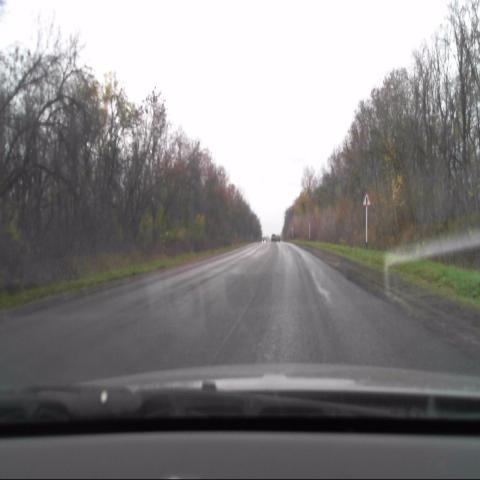2_3_2: (362, 190, 372, 207)
